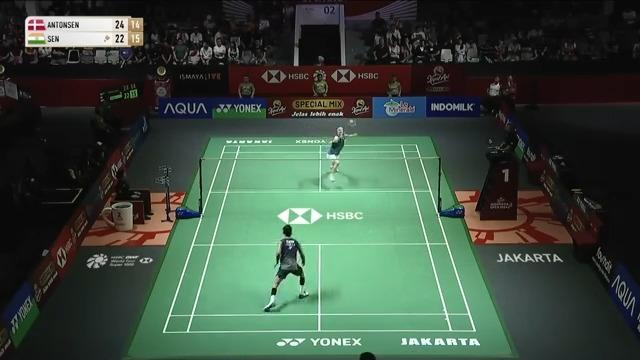Shuttlecock: (346, 116, 354, 126)
